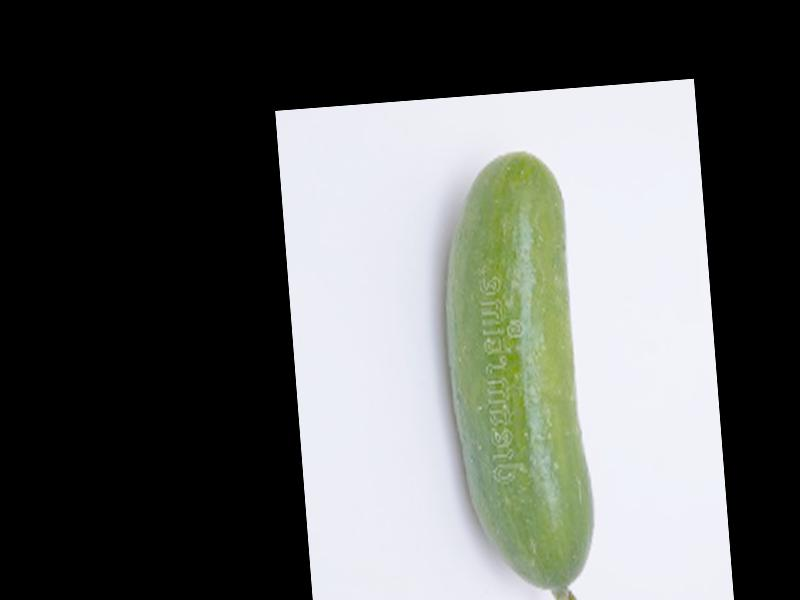Cucumber: (432, 147, 600, 600)
